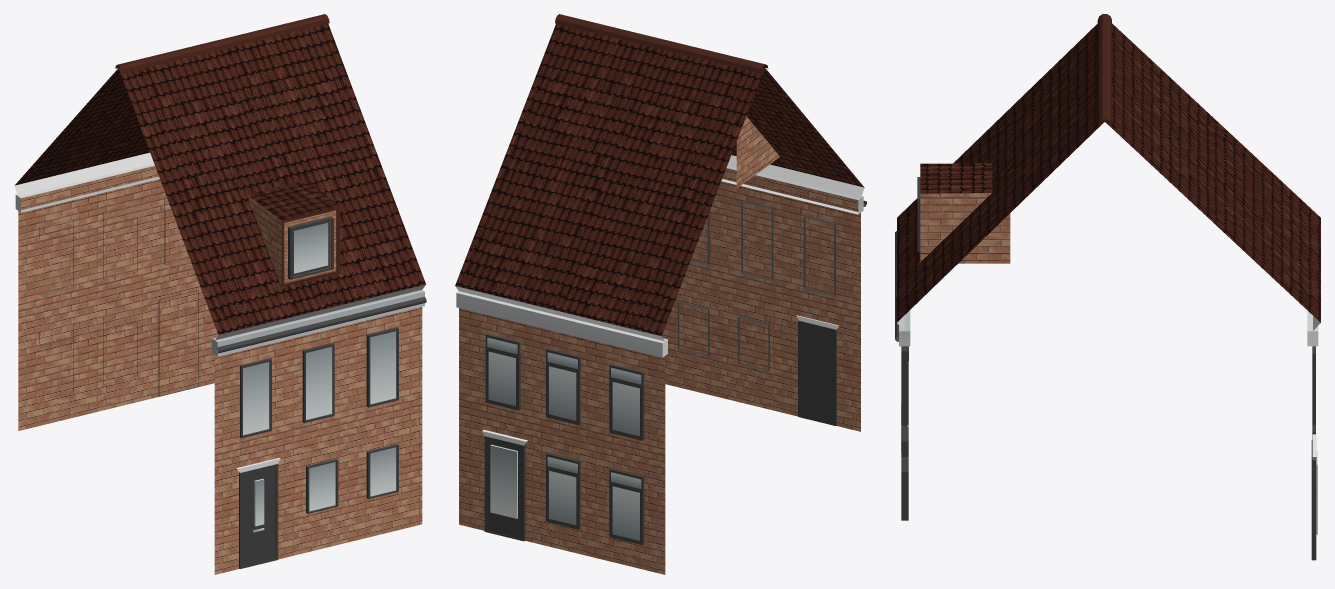
File: It_Tek_20.fbx
3 renders of one model, left to right at view 1: azimuth 30°, elevation 25°; view 2: azimuth 150°, elevation 25°; view 3: azimuth 270°, elevation 25°, orthographic. The views are drawn at different scales.
Visible parts, largest first — view 1: It_Tek_20; view 2: It_Tek_20; view 3: It_Tek_20.
Boxes of the visible parts, x1,y1,x2,y2 form: It_Tek_20: [14, 14, 426, 574]; It_Tek_20: [455, 14, 866, 574]; It_Tek_20: [895, 14, 1320, 560].
Size of the model in its own units: 552 by 1107 by 937.
